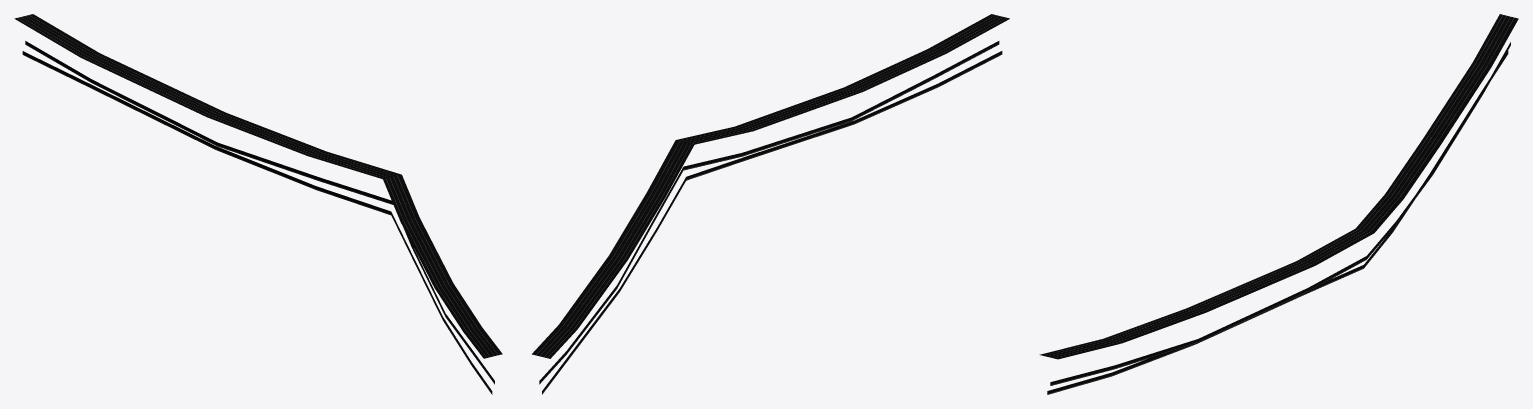
File: vgsn_telewire17.obj
3 renders of one model, left to right at view 1: azimuth 30°, elevation 25°; view 2: azimuth 150°, elevation 25°; view 3: azimuth 330°, elevation 25°, orthographic.
Parts seen in each view (by area): view 1: vgsN_telewire17; view 2: vgsN_telewire17; view 3: vgsN_telewire17.
Part boxes in pixels (x1=…): vgsN_telewire17: x1=14, y1=14, x2=502, y2=394; vgsN_telewire17: x1=532, y1=14, x2=1009, y2=394; vgsN_telewire17: x1=1039, y1=14, x2=1518, y2=394.
Bounding box in the file's own units: 17.95 × 6.29 × 111.
Materials: 1 (1 with a texture image).
